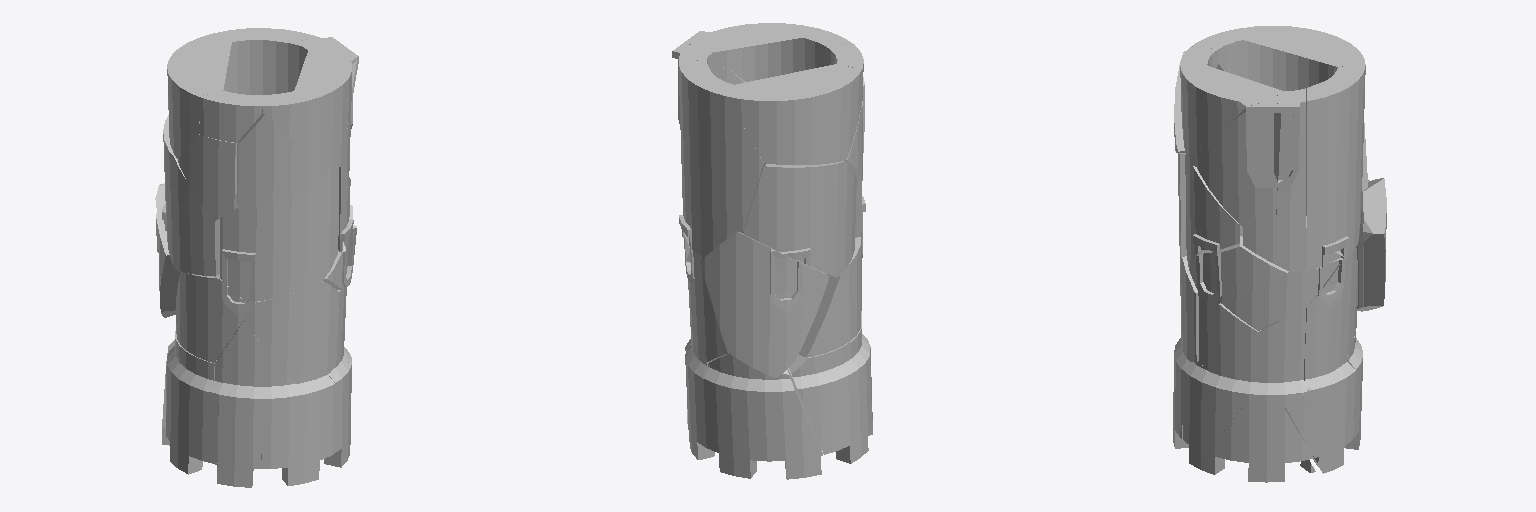
Rendered from destruction_tower_000016.obj.
The picture shows the model from 3 angles: view 1: azimuth 30°, elevation 25°; view 2: azimuth 150°, elevation 25°; view 3: azimuth 270°, elevation 25°; orthographic projection.
Parts seen in each view (by area): view 1: tower.001_cell.024_Mesh.024, tower.001_cell.028_Mesh.028, tower.001_cell.021_Mesh.021, tower.001_cell.006_Mesh.006, tower.001_cell.011_Mesh.011, tower.001_cell.002_Mesh.002, tower.001_cell.013_Mesh.013, tower.001_cell.003_Mesh.003, tower.001_cell.015_Mesh.015, tower.001_cell.009_Mesh.009, tower.001_cell.017_Mesh.017, tower.001_cell.014_Mesh.014 (+10 smaller); view 2: tower.001_cell.025_Mesh.025, tower.001_cell.017_Mesh.017, tower.001_cell.007_Mesh.007, tower.001_cell.015_Mesh.015, tower.001_cell.003_Mesh.003, tower.001_cell.005_Mesh.005, tower.001_cell.028_Mesh.028, tower.001_cell.009_Mesh.009, tower.001_cell.012_Mesh.012, tower.001_cell.029_Mesh.029, tower.001_cell.006_Mesh.006, tower.001_cell.026_Mesh.026 (+2 smaller); view 3: tower.001_cell.017_Mesh.017, tower.001_cell.020_Mesh.020, tower.001_cell.015_Mesh.015, tower.001_cell.028_Mesh.028, tower.001_cell.030_Mesh.030, tower.001_cell.012_Mesh.012, tower.001_cell.029_Mesh.029, tower.001_cell_Mesh, tower.001_cell.016_Mesh.016, tower.001_cell.010_Mesh.010, tower.001_cell.023_Mesh.023, tower.001_cell.026_Mesh.026 (+11 smaller).
Boxes of the visible parts, <box> form: tower.001_cell.024_Mesh.024: <box>220,177,324,302</box>; tower.001_cell.028_Mesh.028: <box>255,50,358,173</box>; tower.001_cell.021_Mesh.021: <box>244,281,339,386</box>; tower.001_cell.006_Mesh.006: <box>169,390,261,487</box>; tower.001_cell.011_Mesh.011: <box>261,377,334,485</box>; tower.001_cell.002_Mesh.002: <box>237,113,324,209</box>; tower.001_cell.013_Mesh.013: <box>213,322,296,434</box>; tower.001_cell.003_Mesh.003: <box>162,115,219,276</box>; tower.001_cell.015_Mesh.015: <box>167,34,231,159</box>; tower.001_cell.009_Mesh.009: <box>176,272,243,362</box>; tower.001_cell.017_Mesh.017: <box>211,28,316,194</box>; tower.001_cell.014_Mesh.014: <box>178,134,235,220</box>; tower.001_cell.025_Mesh.025: <box>700,232,829,377</box>; tower.001_cell.017_Mesh.017: <box>679,56,765,256</box>; tower.001_cell.007_Mesh.007: <box>703,353,822,479</box>; tower.001_cell.015_Mesh.015: <box>729,64,861,164</box>; tower.001_cell.003_Mesh.003: <box>743,161,856,277</box>; tower.001_cell.005_Mesh.005: <box>789,325,869,454</box>; tower.001_cell.028_Mesh.028: <box>699,23,849,82</box>; tower.001_cell.009_Mesh.009: <box>799,237,862,357</box>; tower.001_cell.012_Mesh.012: <box>685,250,728,362</box>; tower.001_cell.029_Mesh.029: <box>685,351,711,459</box>; tower.001_cell.006_Mesh.006: <box>836,347,872,463</box>; tower.001_cell.026_Mesh.026: <box>672,44,722,123</box>; tower.001_cell.017_Mesh.017: <box>1307,63,1365,257</box>; tower.001_cell.020_Mesh.020: <box>1194,100,1280,226</box>; tower.001_cell.015_Mesh.015: <box>1243,26,1364,112</box>; tower.001_cell.028_Mesh.028: <box>1180,46,1281,157</box>; tower.001_cell.030_Mesh.030: <box>1199,403,1313,482</box>; tower.001_cell.012_Mesh.012: <box>1305,248,1357,388</box>; tower.001_cell.029_Mesh.029: <box>1286,360,1355,473</box>; tower.001_cell_Mesh: <box>1198,293,1260,403</box>; tower.001_cell.016_Mesh.016: <box>1254,308,1307,407</box>; tower.001_cell.010_Mesh.010: <box>1188,235,1287,303</box>; tower.001_cell.023_Mesh.023: <box>1183,361,1244,468</box>; tower.001_cell.026_Mesh.026: <box>1273,88,1305,227</box>.
Size of the model in its own units: 45.64 by 97.28 by 49.33.